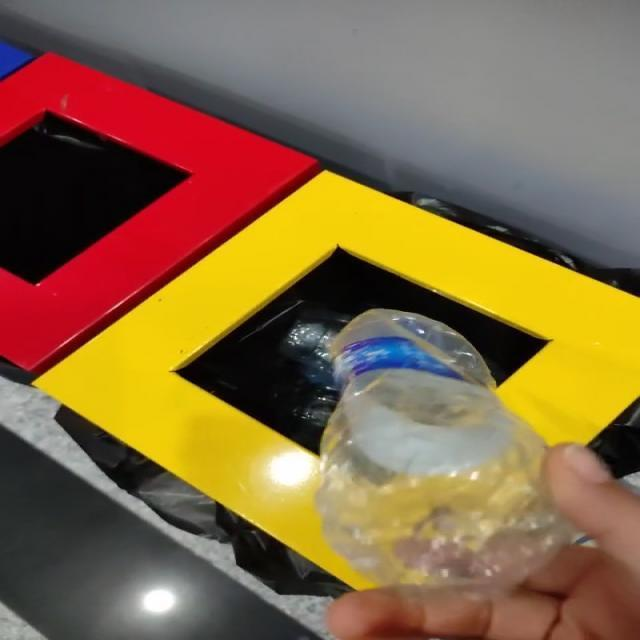Plastic: (316, 311, 572, 591)
